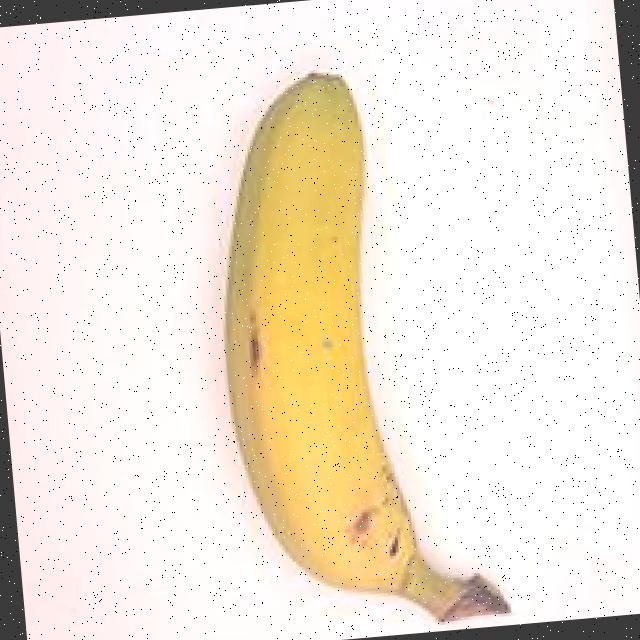Unripe: (133, 12, 536, 640)
